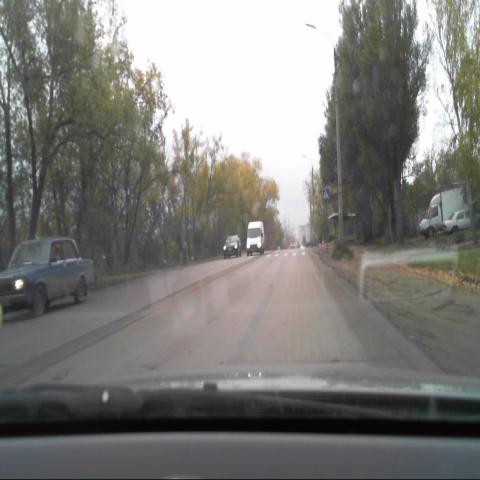5_19_1: (185, 219, 194, 232), (322, 187, 330, 200)
